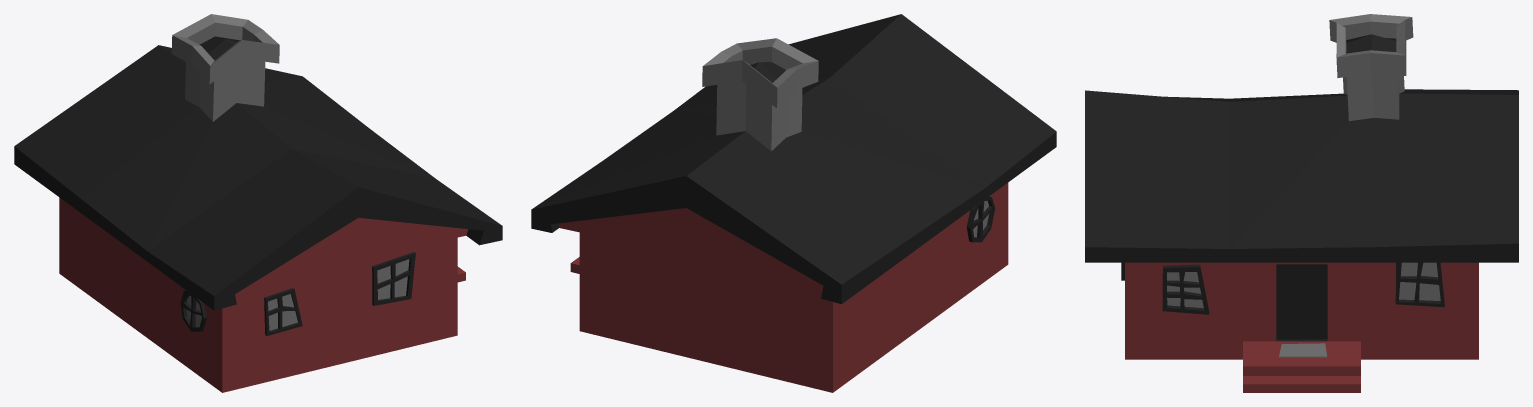
Rendered from House01.fbx.
3 views of the same model, side by side, from view 1: azimuth 30°, elevation 25°; view 2: azimuth 150°, elevation 25°; view 3: azimuth 270°, elevation 25° (orthographic). The views are drawn at different scales.
Parts seen in each view (by area): view 1: Cube.002; view 2: Cube.002; view 3: Cube.002.
Part boxes in pixels (x1,y1,x2,y2): Cube.002: (14,14,502,392); Cube.002: (531,14,1056,392); Cube.002: (1085,14,1518,392).
Size of the model in its own units: 2070 by 1559 by 2207.
